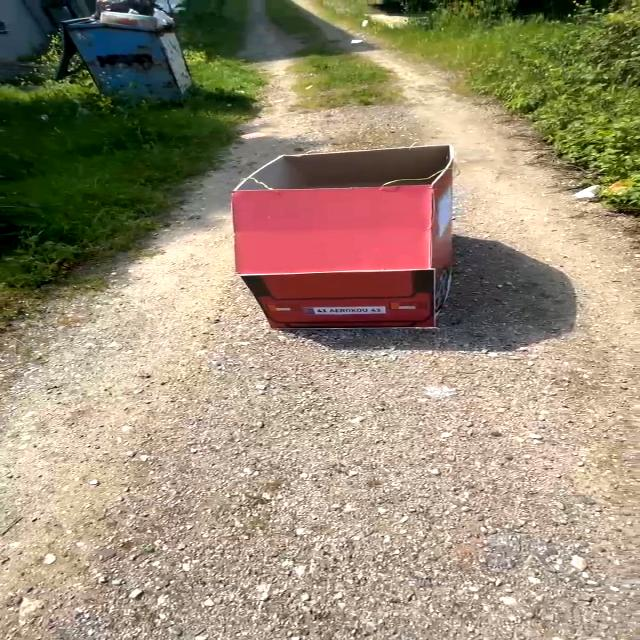red_car: (214, 126, 489, 356)
